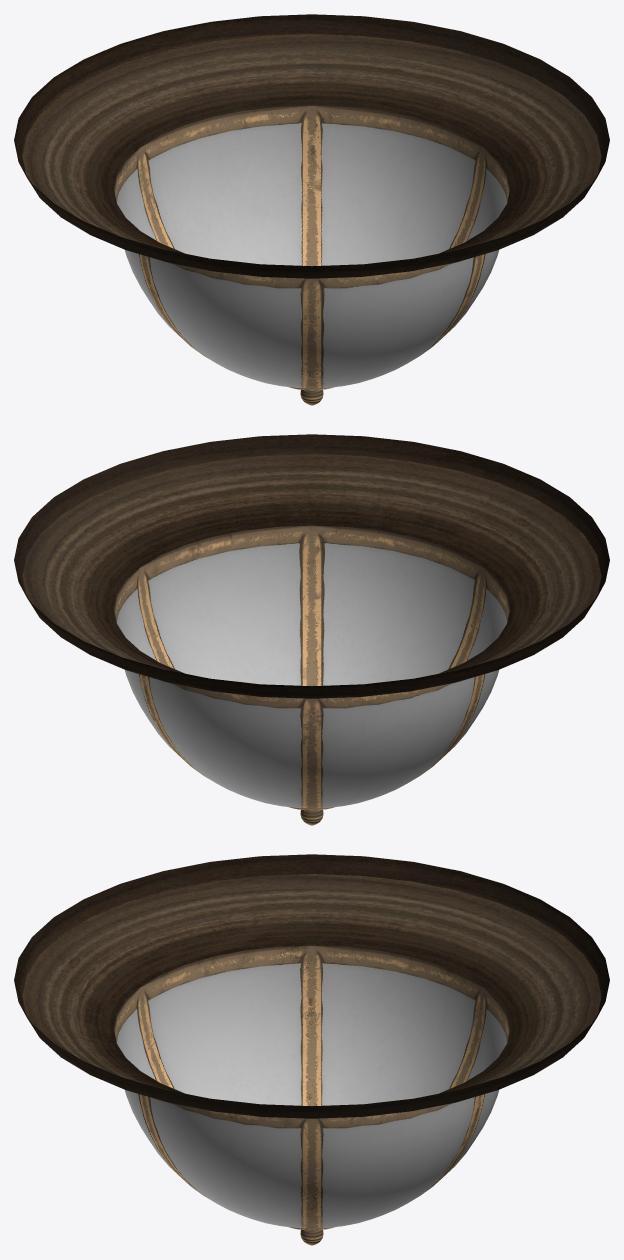
Rendered from Lamp.fbx.
3 views of the same model, one above another, from view 1: azimuth 30°, elevation 25°; view 2: azimuth 150°, elevation 25°; view 3: azimuth 270°, elevation 25° (orthographic).
Parts seen in each view (by area): view 1: Sphere; view 2: Sphere; view 3: Sphere.
Part boxes in pixels (<box>): Sphere: <box>14,14,609,405</box>; Sphere: <box>14,434,609,825</box>; Sphere: <box>14,854,609,1245</box>.
Size of the model in its own units: 201 by 98.66 by 201.
